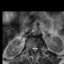CCS_normal: (33, 46, 35, 55)
LFS_stenosis: (37, 46, 39, 51)
LLS_normal: (35, 46, 37, 53)
RFS_stenosis: (29, 46, 31, 51)
RLS_stenosis: (31, 46, 33, 52)
